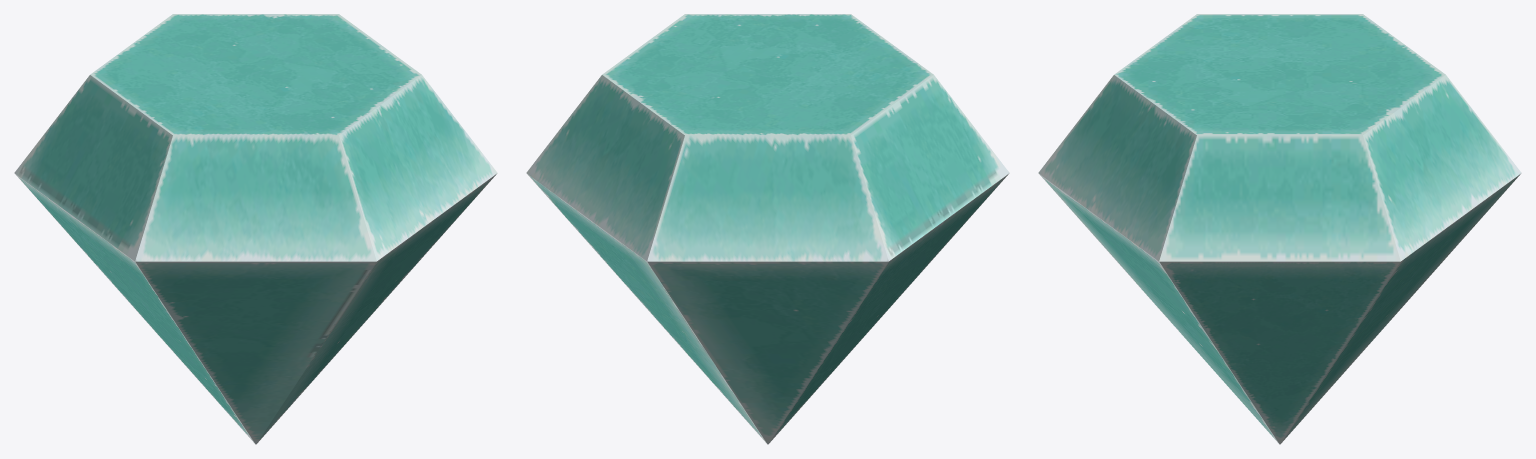
Rendered from Diamond_Polished.glb.
3 renders of one model, left to right at view 1: azimuth 30°, elevation 25°; view 2: azimuth 150°, elevation 25°; view 3: azimuth 270°, elevation 25°, orthographic.
Parts seen in each view (by area): view 1: Diamond_Polished; view 2: Diamond_Polished; view 3: Diamond_Polished.
Part boxes in pixels (x1,y1,x2,y2): Diamond_Polished: [14, 14, 497, 444]; Diamond_Polished: [526, 14, 1009, 444]; Diamond_Polished: [1038, 14, 1521, 444].
Bounding box in the file's own units: 0.1536 × 0.1499 × 0.1774.
1 material, 1 textured.
